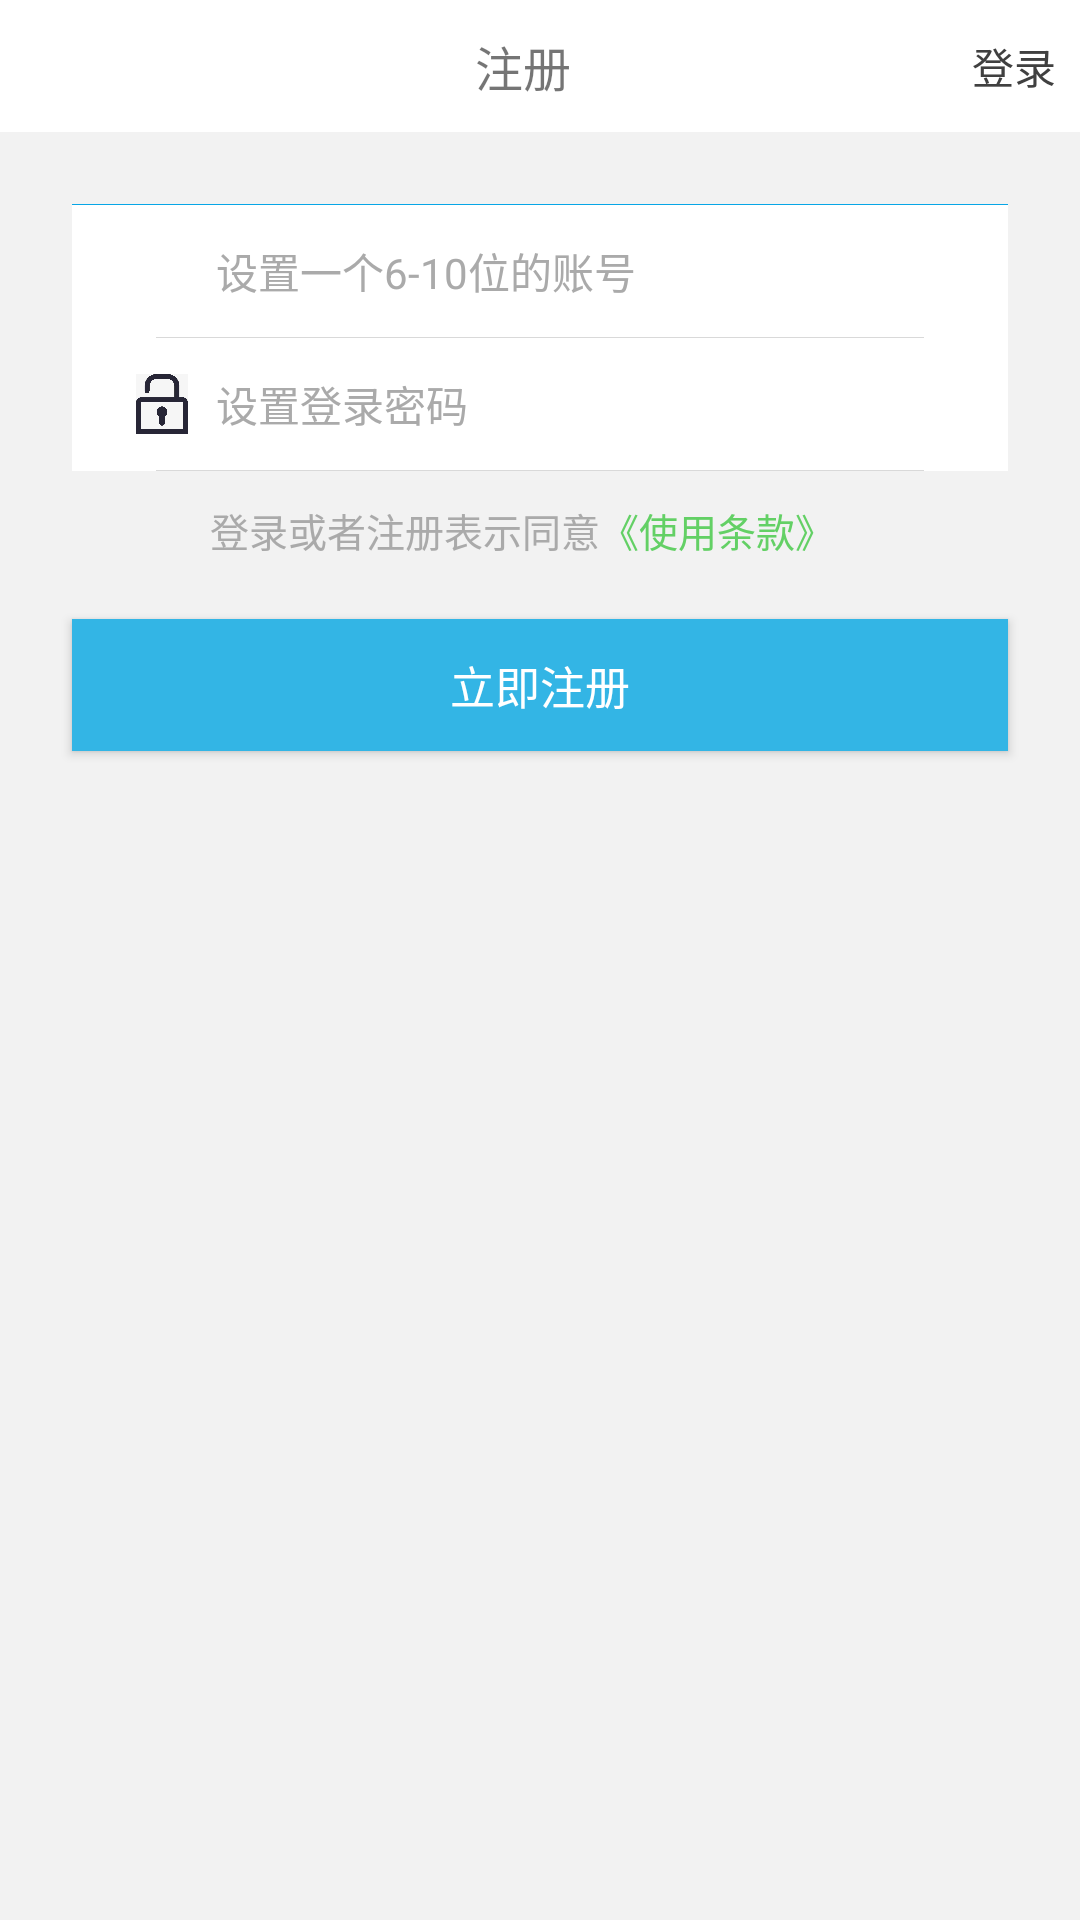

Named icons in this screenshot (1080×1920) and their bounding boxes, (x1, y1, x2, y2):
passwordfig: (136, 374, 188, 434)
